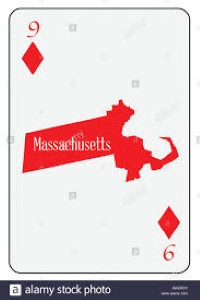NineOfDiamonds: (2, 5, 191, 274)
